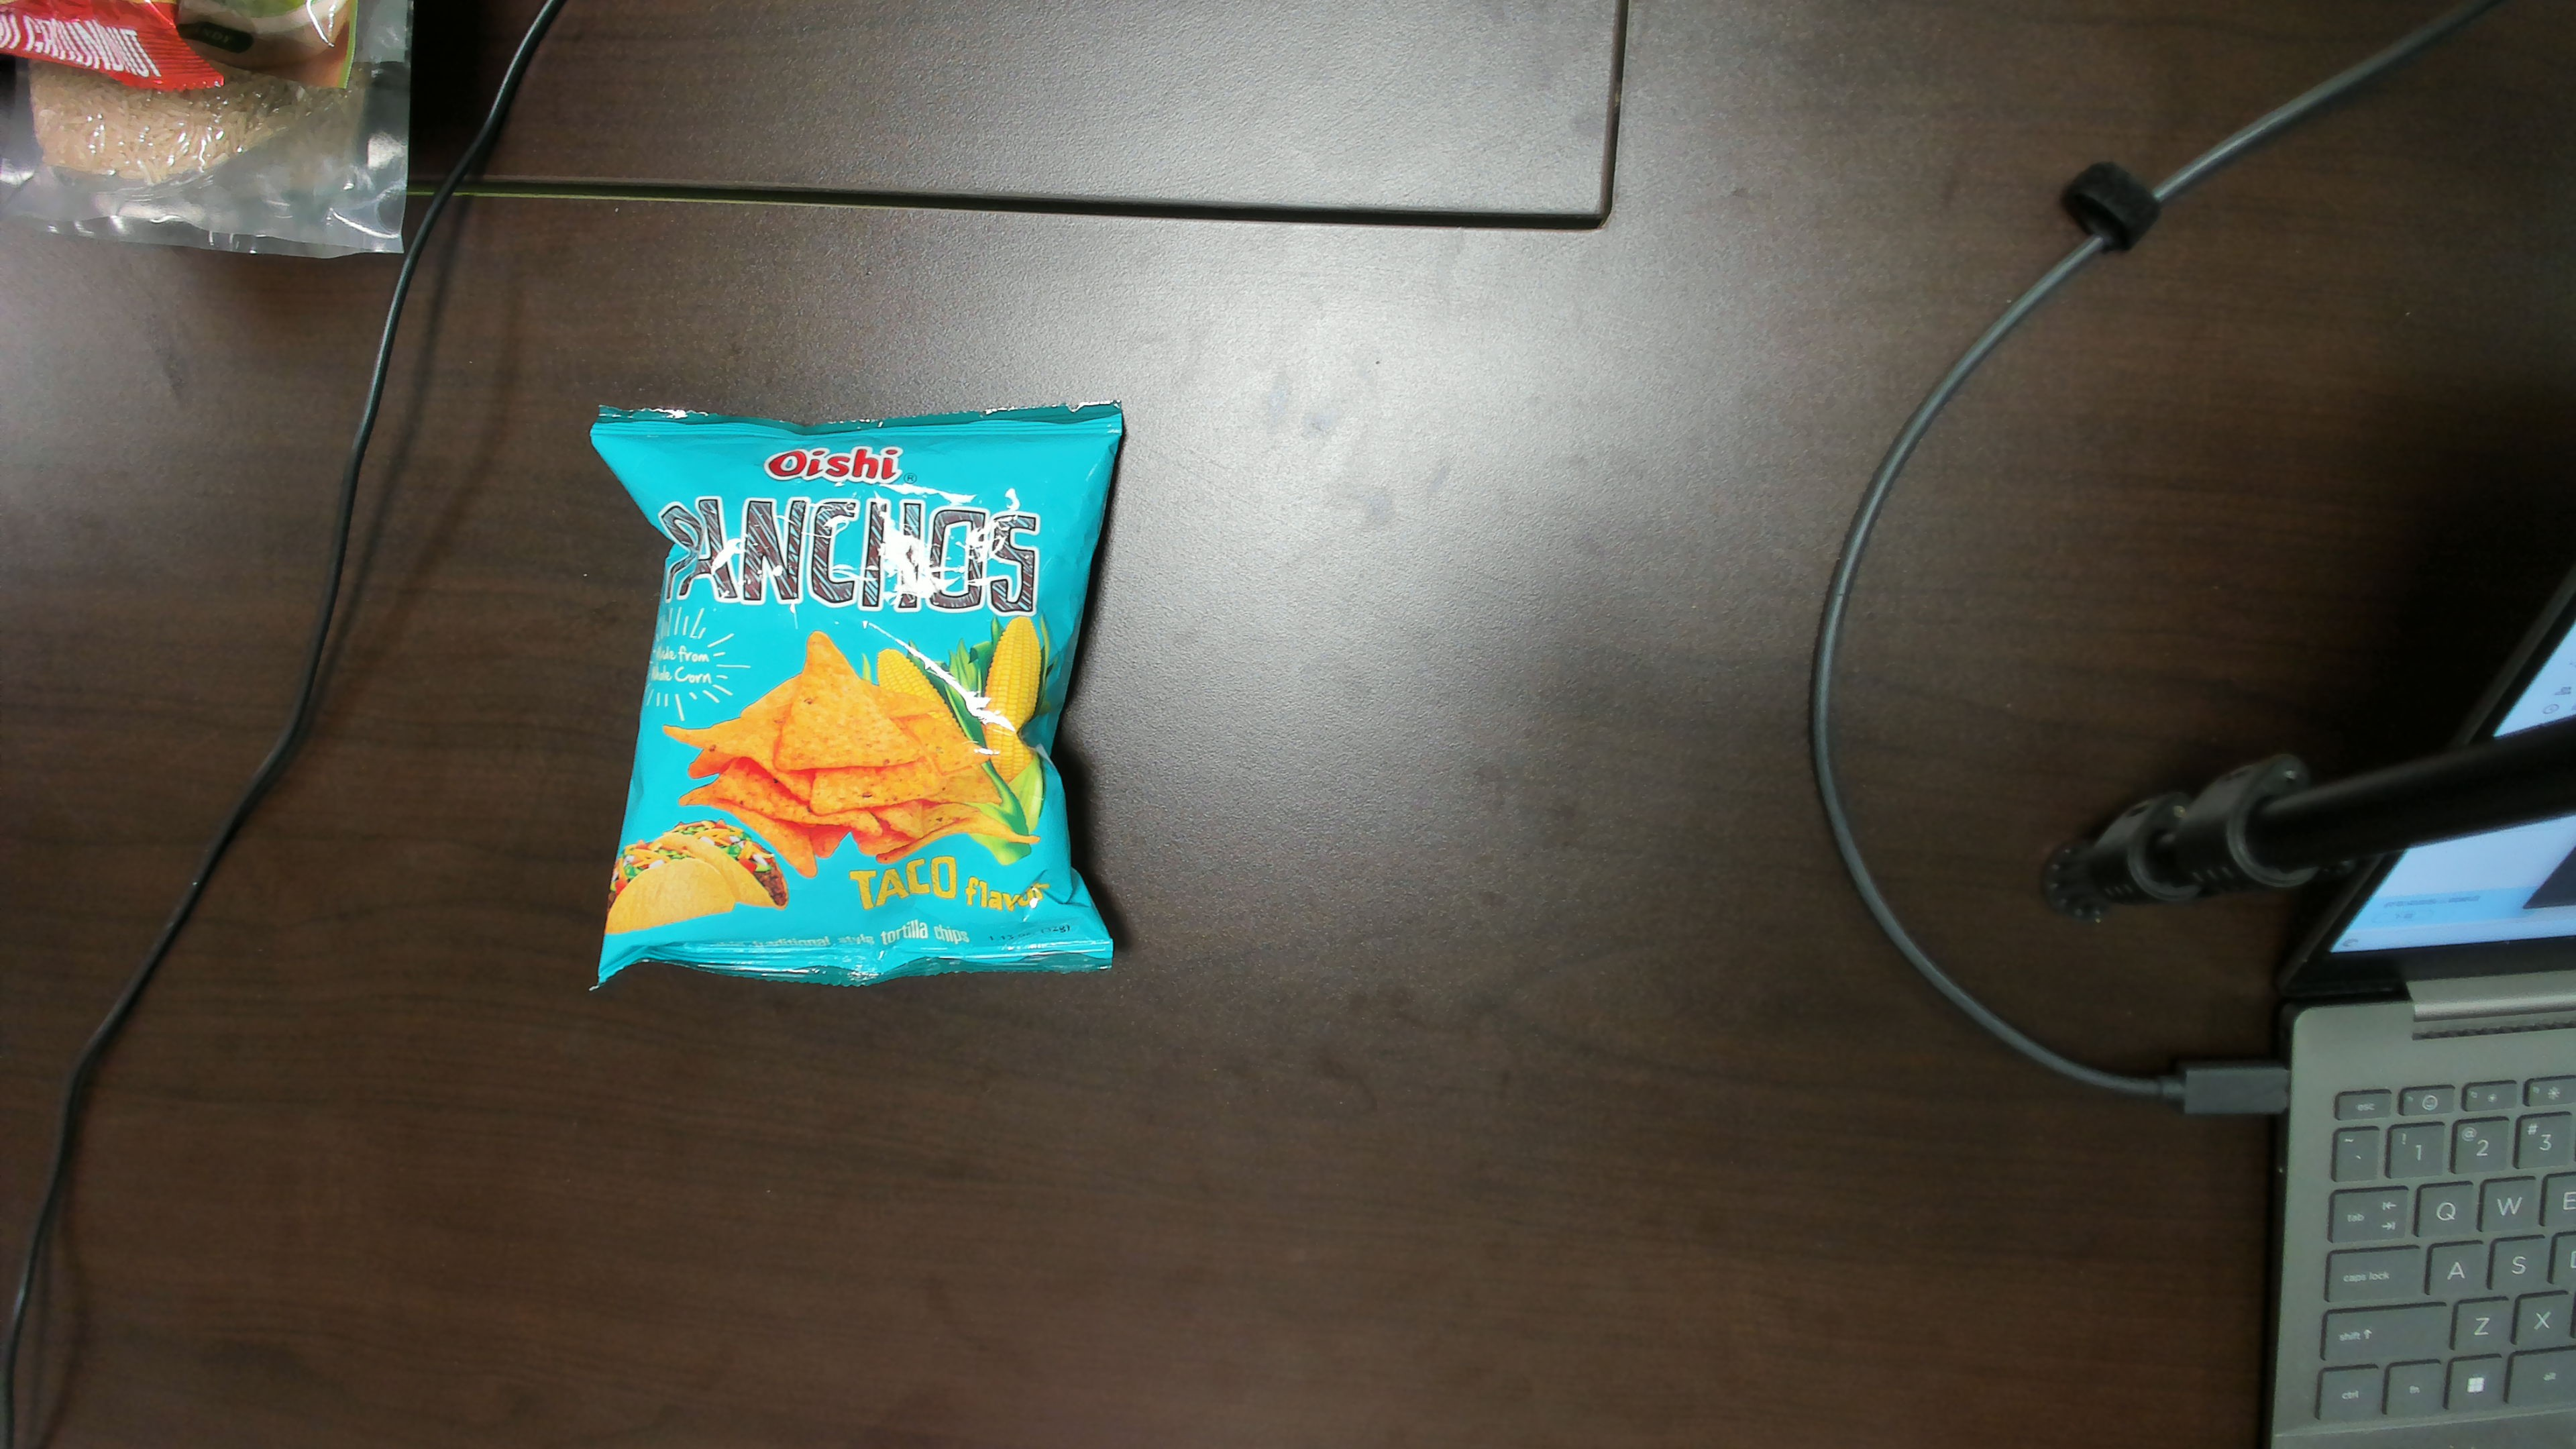PotatochipsKeropok_1-99g_NonHalal_NonHealthy: (649, 428, 1070, 961)
